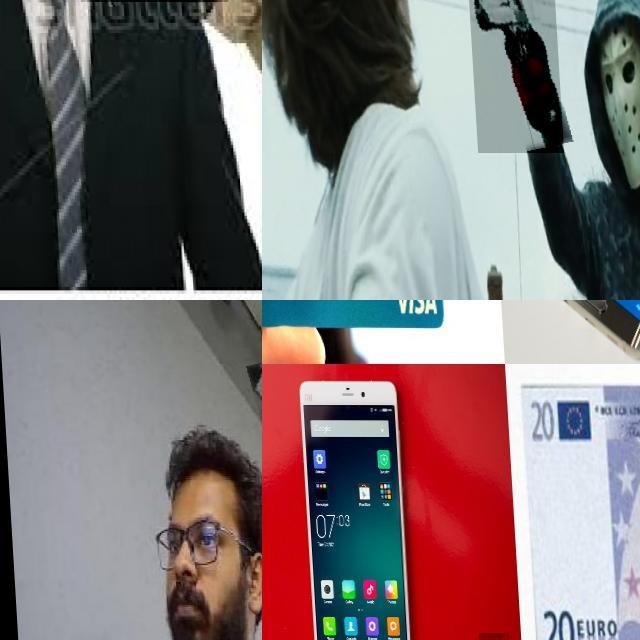gun-knife-thesis - v11 Yolov5 augmented: (464, 0, 559, 153), (69, 0, 224, 92)
